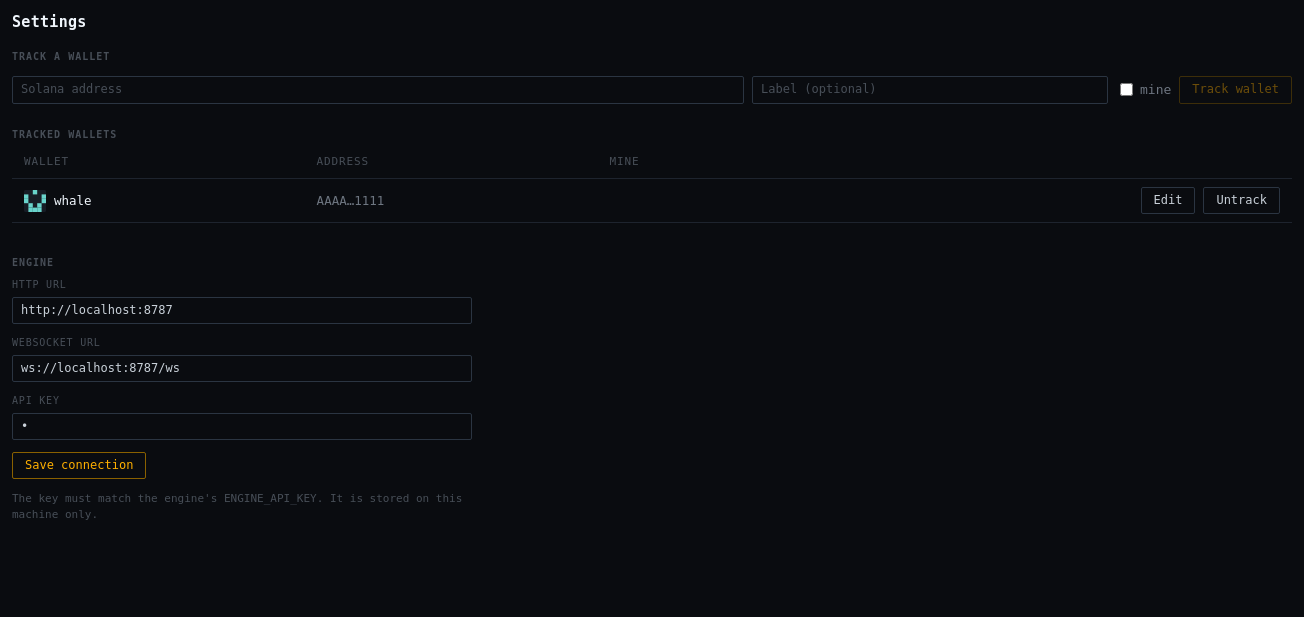
Test case: SettingsTab › keeps the edit on screen when the engine refuses it
The image size is (1304, 617).
Click the button named "Edit whale" at x=1168, y=201, box [1140, 187, 1195, 214]
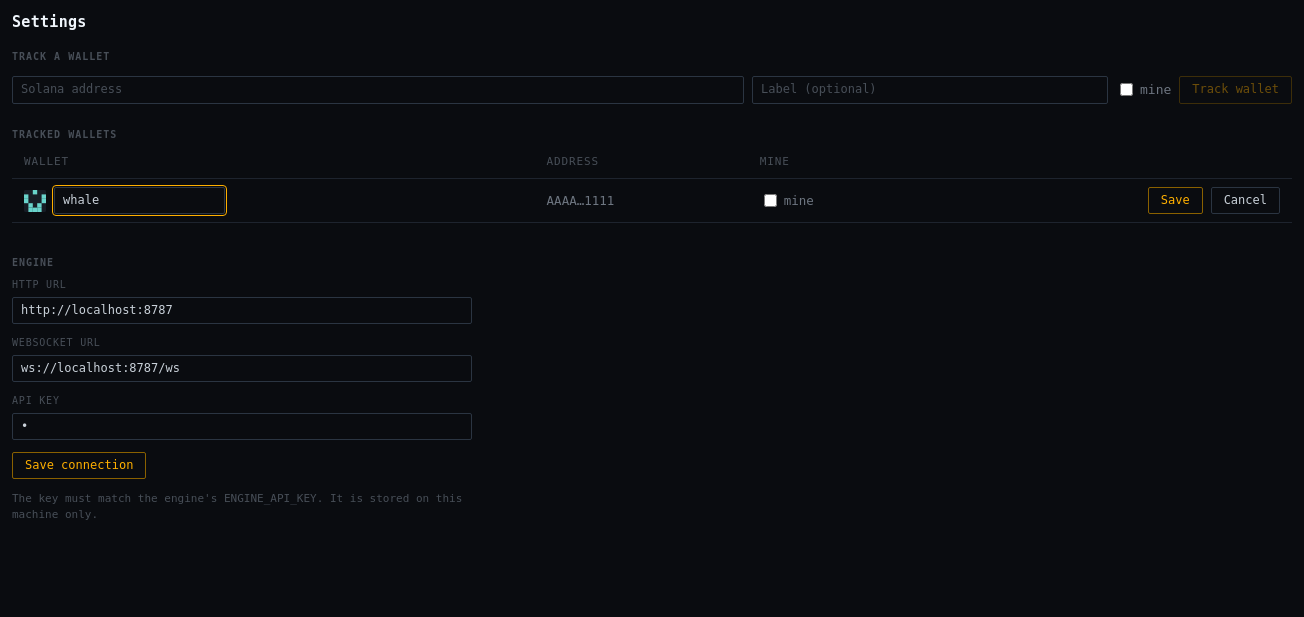
Replace the text in the field named "Label for AAAA…1111" with "too long" at x=140, y=201, box [54, 187, 225, 214]
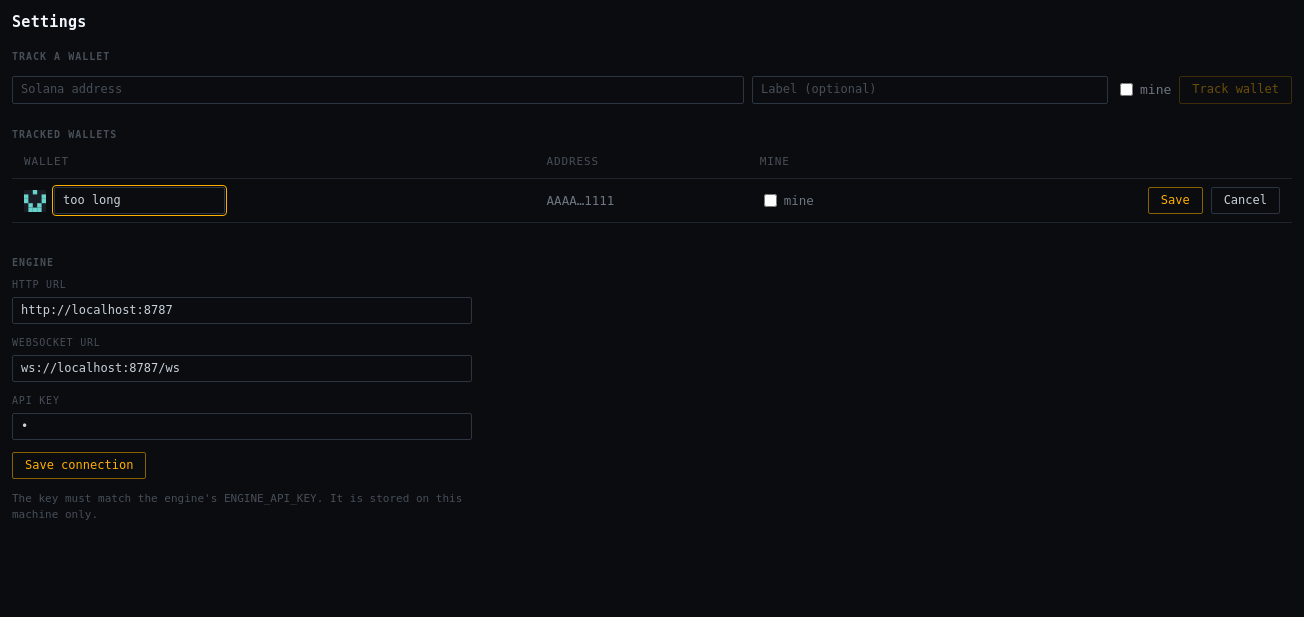
Click the button "Save" at x=1175, y=201, box [1148, 187, 1203, 214]
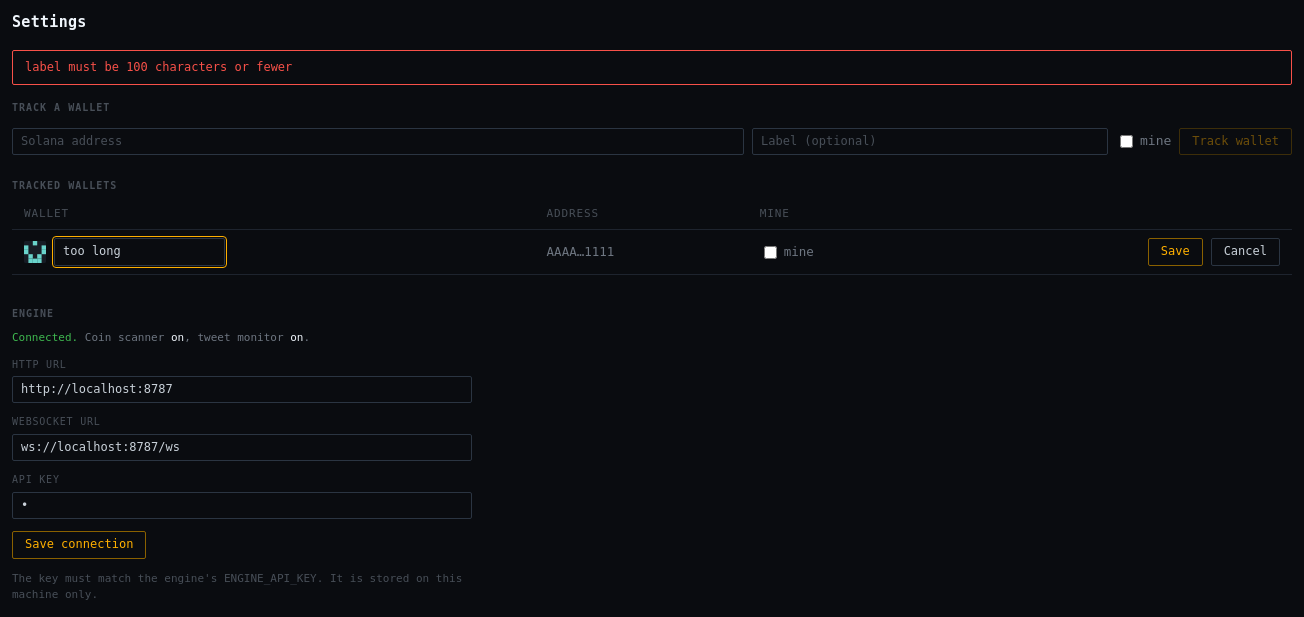
Expected: the text "label must be 100 characters or fewer" is shown, [12, 50, 1292, 85]
